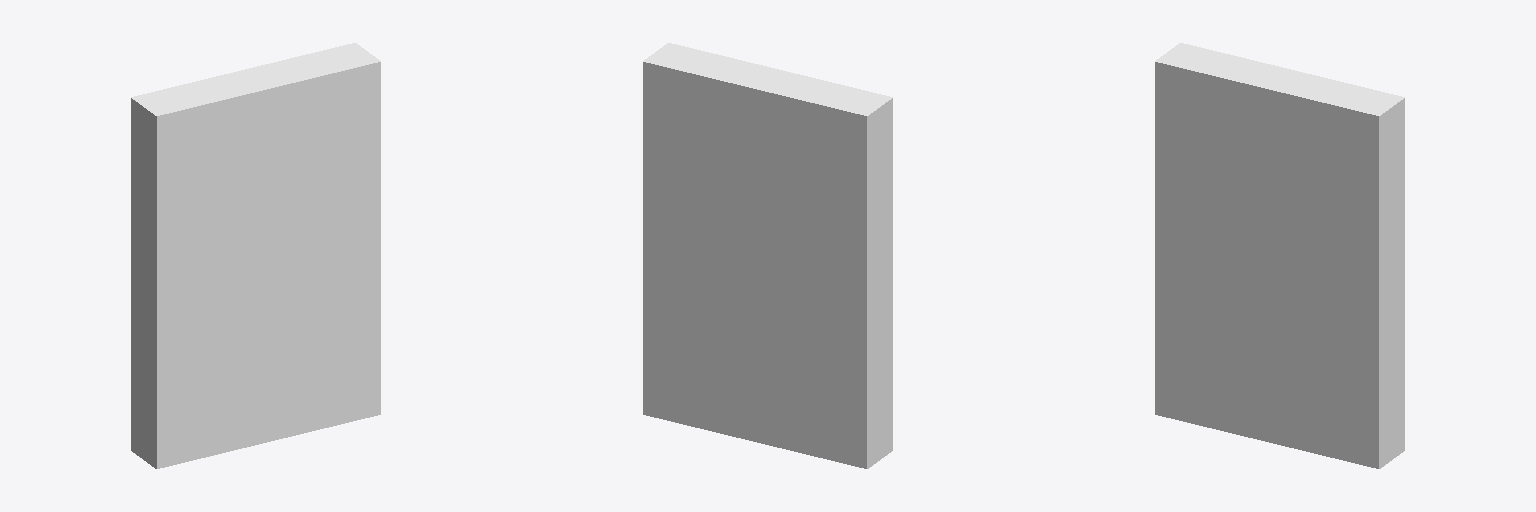
Rendered from Paper.obj.
The picture shows the model from 3 angles: view 1: azimuth 30°, elevation 25°; view 2: azimuth 150°, elevation 25°; view 3: azimuth 330°, elevation 25°; orthographic projection.
Parts seen in each view (by area): view 1: object 1; view 2: object 1; view 3: object 1.
Boxes of the visible parts, box(x1,y1,x2,y2) form: object 1: box(131, 43, 380, 468); object 1: box(643, 43, 892, 468); object 1: box(1155, 43, 1404, 468).
Bounding box in the file's own units: 1 × 1.5 × 0.2.